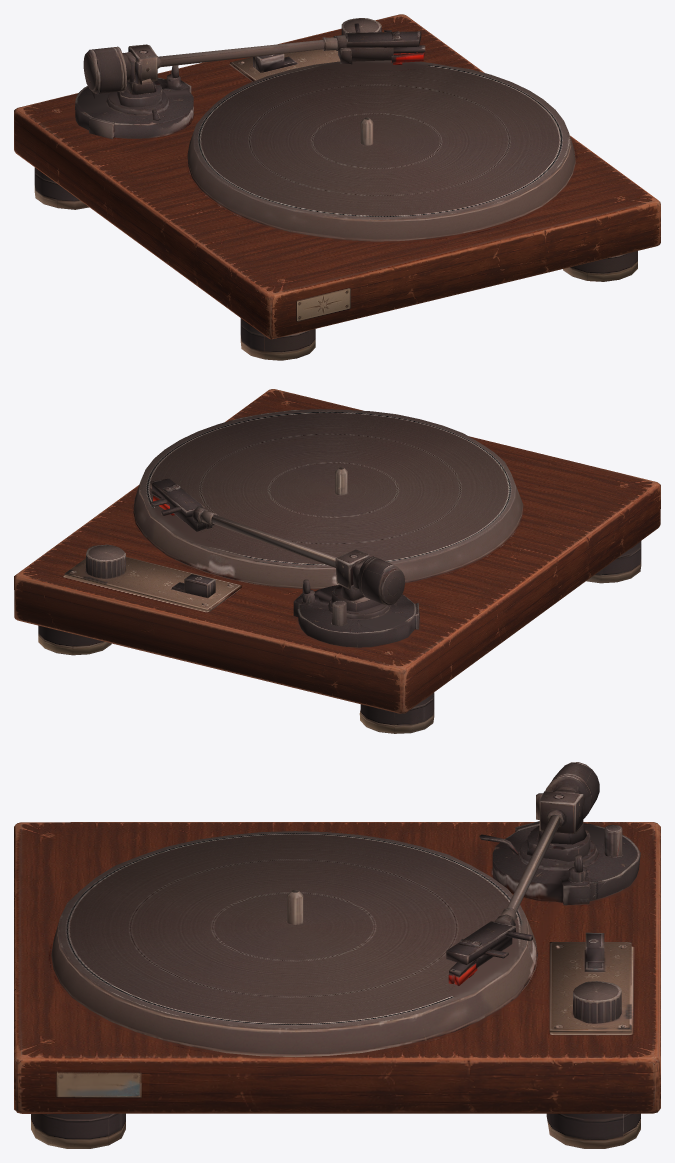
The model's file is turntable.glb.
3 renders of one model, top to bottom at view 1: azimuth 30°, elevation 25°; view 2: azimuth 150°, elevation 25°; view 3: azimuth 270°, elevation 25°, orthographic. The views are drawn at different scales.
Bounding box in the file's own units: 0.8276 × 0.2891 × 0.9429.
Materials: 1 (1 with a texture image).
